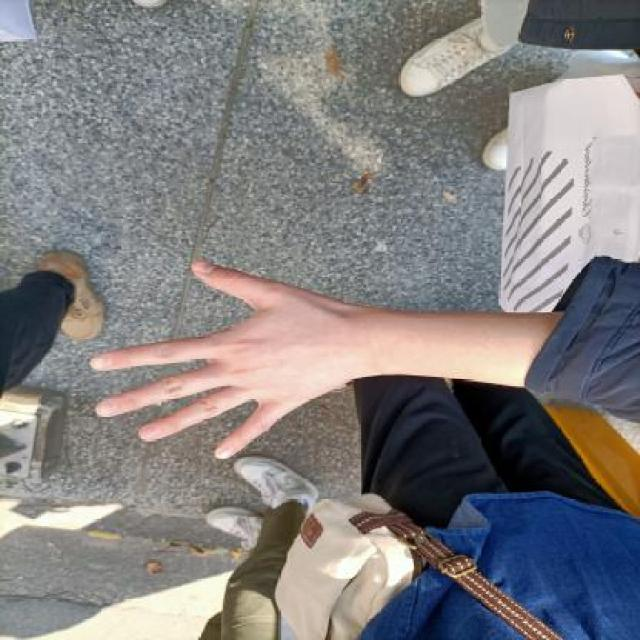bare_hand: (84, 252, 388, 474)
